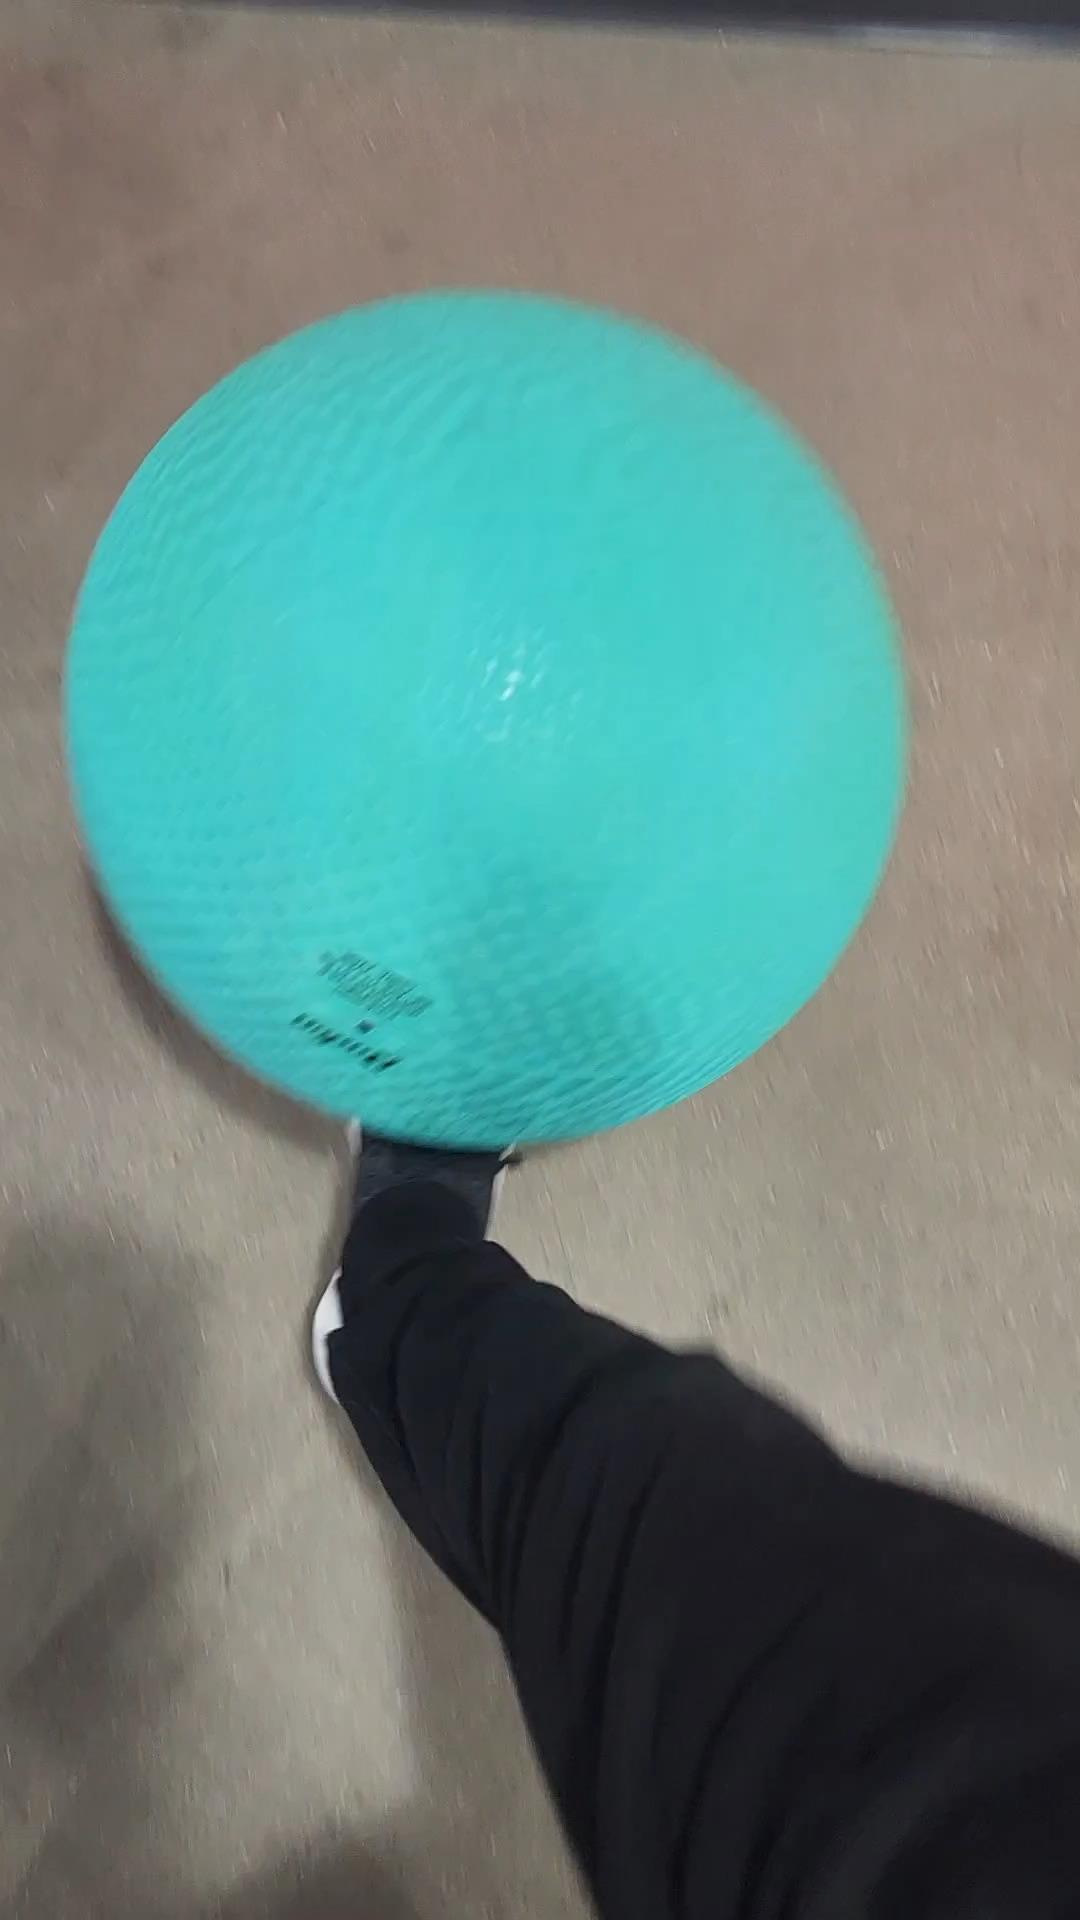algae: (71, 295, 898, 1129)
